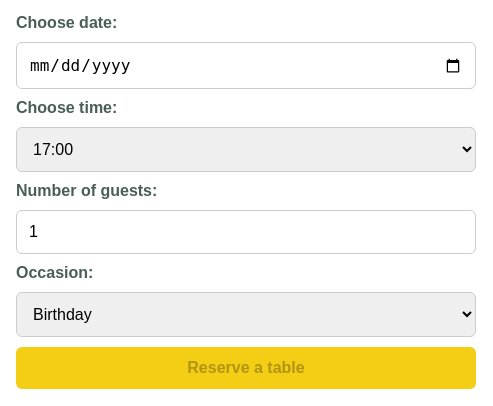
Test case: submit button is enabled when form is valid
The image size is (493, 406).
Type "2026-09-21" into the date field labelled "Choose date:".
click(246, 66); type("2026-09-21")  # box 16,42 -> 476,89
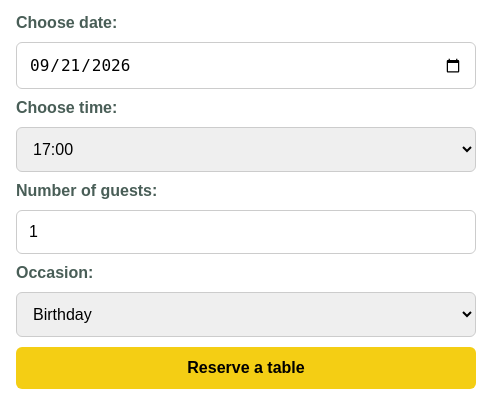
Check: the button "Reserve a table" is enabled, box 16,347 -> 476,389
